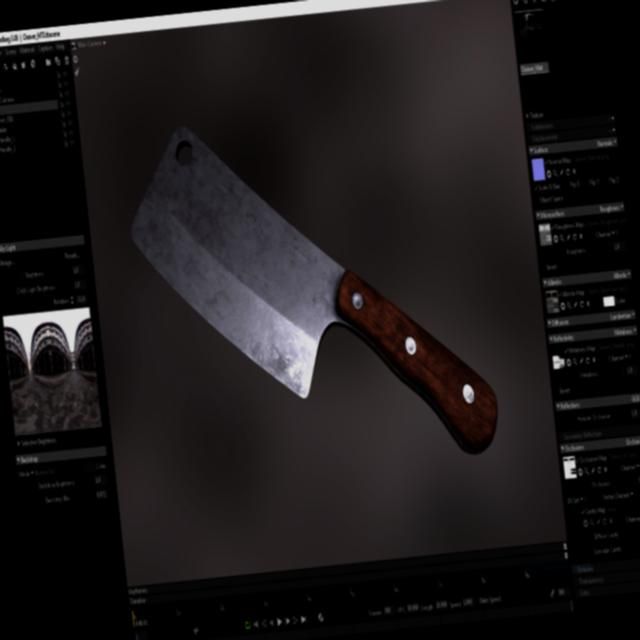cleaver: (117, 87, 508, 495)
